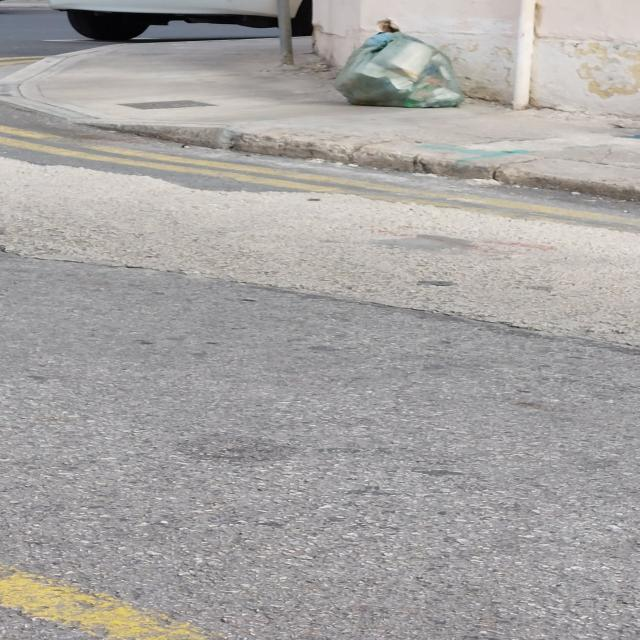Recycled Waste -Grey or Green Bag-: (332, 24, 470, 117)
